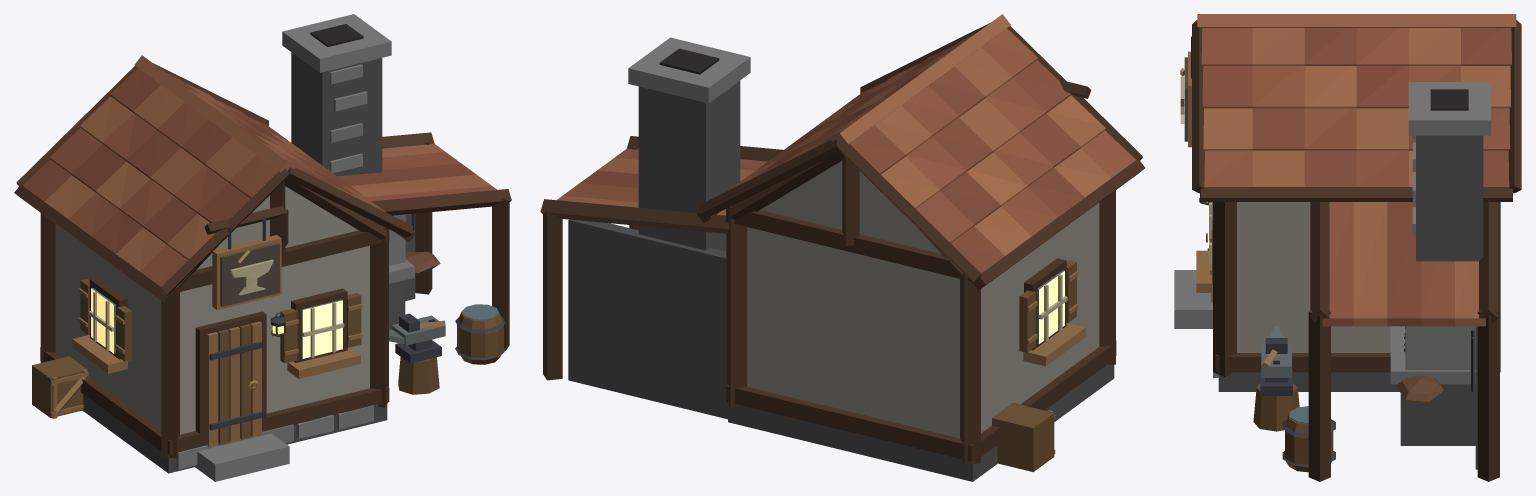
The model's file is town_blacksmith_a.glb.
3 renders of one model, left to right at view 1: azimuth 30°, elevation 25°; view 2: azimuth 150°, elevation 25°; view 3: azimuth 270°, elevation 25°, orthographic. The views are drawn at different scales.
Parts seen in each view (by area): view 1: town_blacksmith_a; view 2: town_blacksmith_a; view 3: town_blacksmith_a.
Boxes of the visible parts, box(x1,y1,x2,y2) form: town_blacksmith_a: box(14, 14, 511, 481); town_blacksmith_a: box(540, 14, 1145, 481); town_blacksmith_a: box(1174, 14, 1521, 481).
Size of the model in its own units: 5.02 by 3.37 by 3.29.
